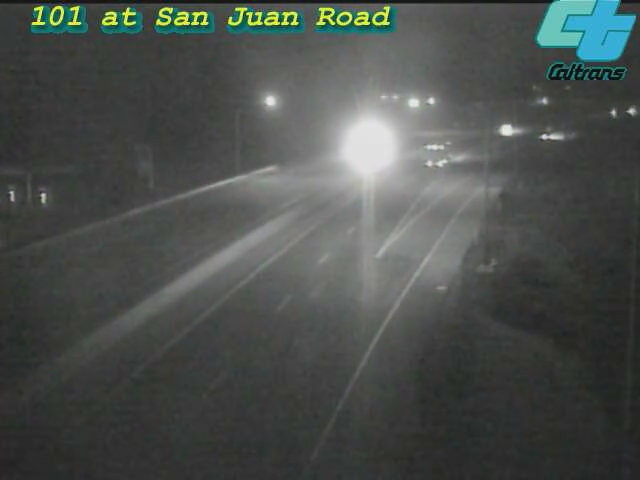vehicle: (338, 122, 388, 172), (485, 105, 535, 155), (526, 112, 576, 162), (418, 126, 468, 176), (590, 89, 640, 139)
